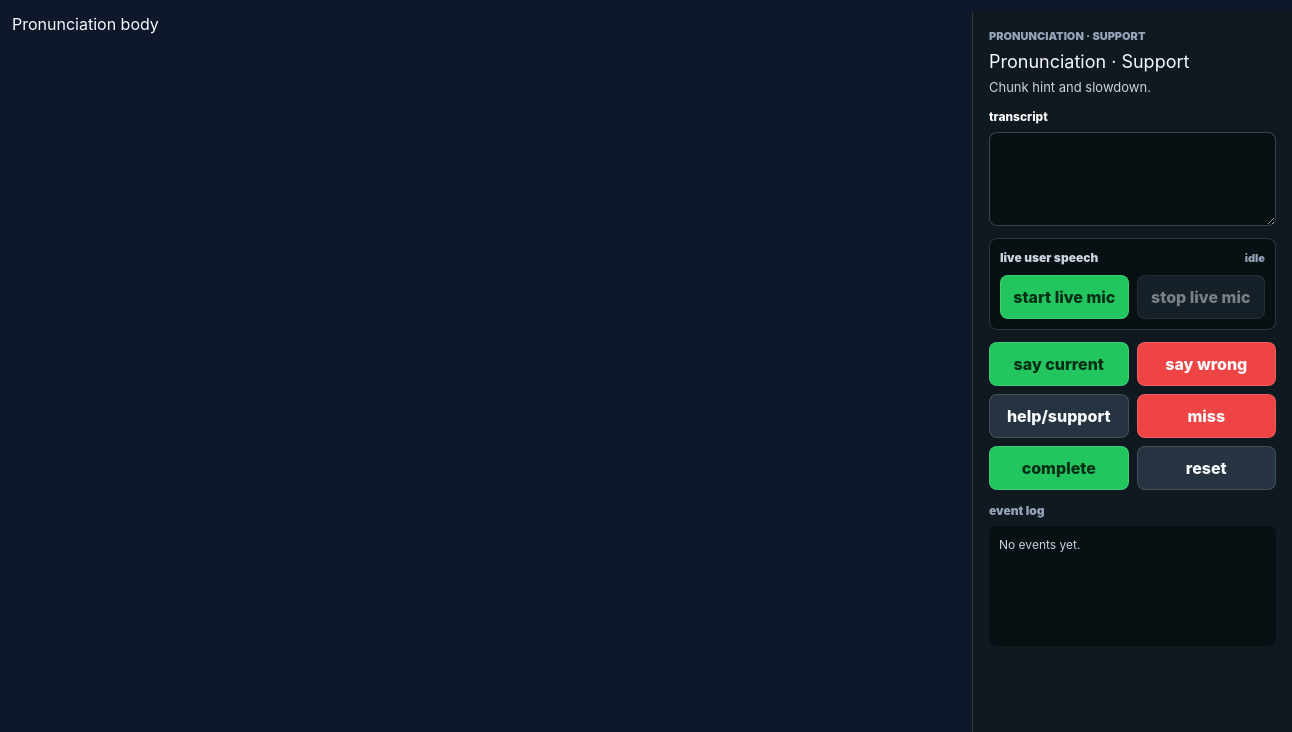
Test: baseline QA Storybook harness › can drive transcript from live browser speech recognition
Click the button "start live mic" at (1064, 297), box x1=1000 y1=275 x2=1128 y2=319
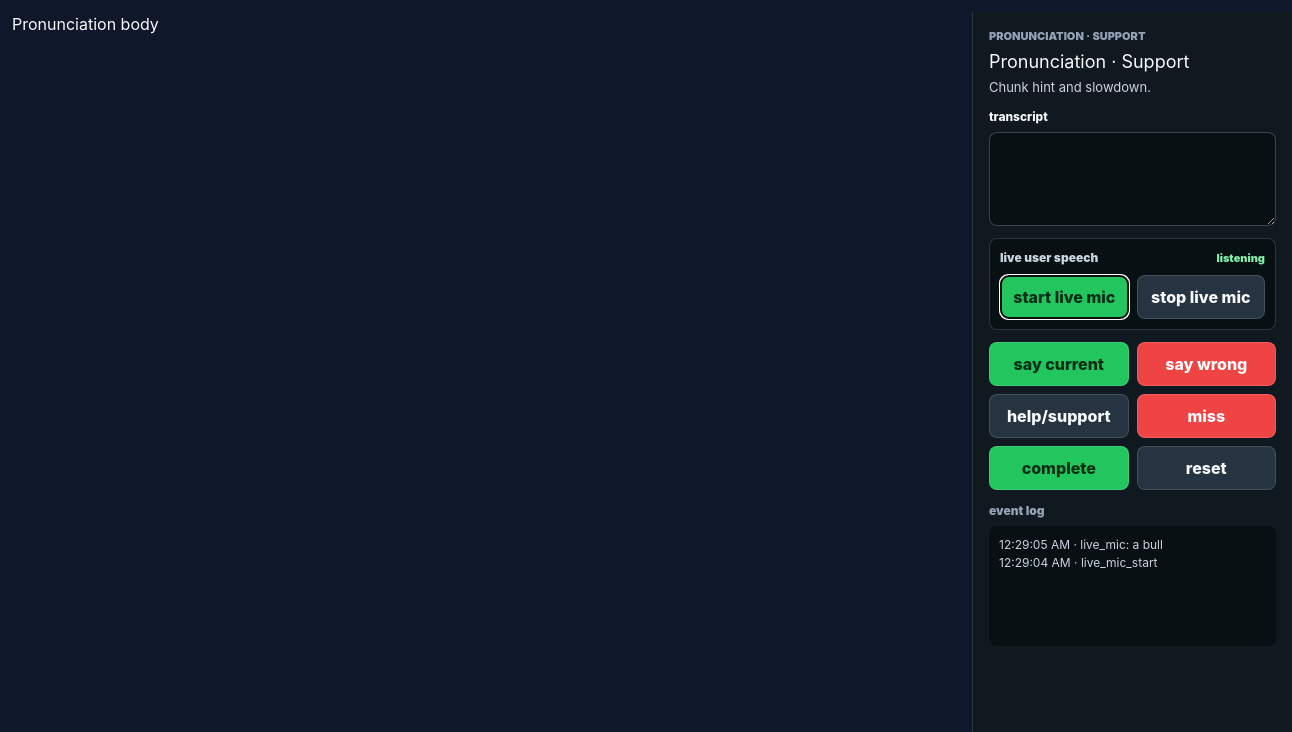
expect the text "12:29:05 AM · live_mic: a bull" is shown: met, box x1=999 y1=537 x2=1163 y2=552
